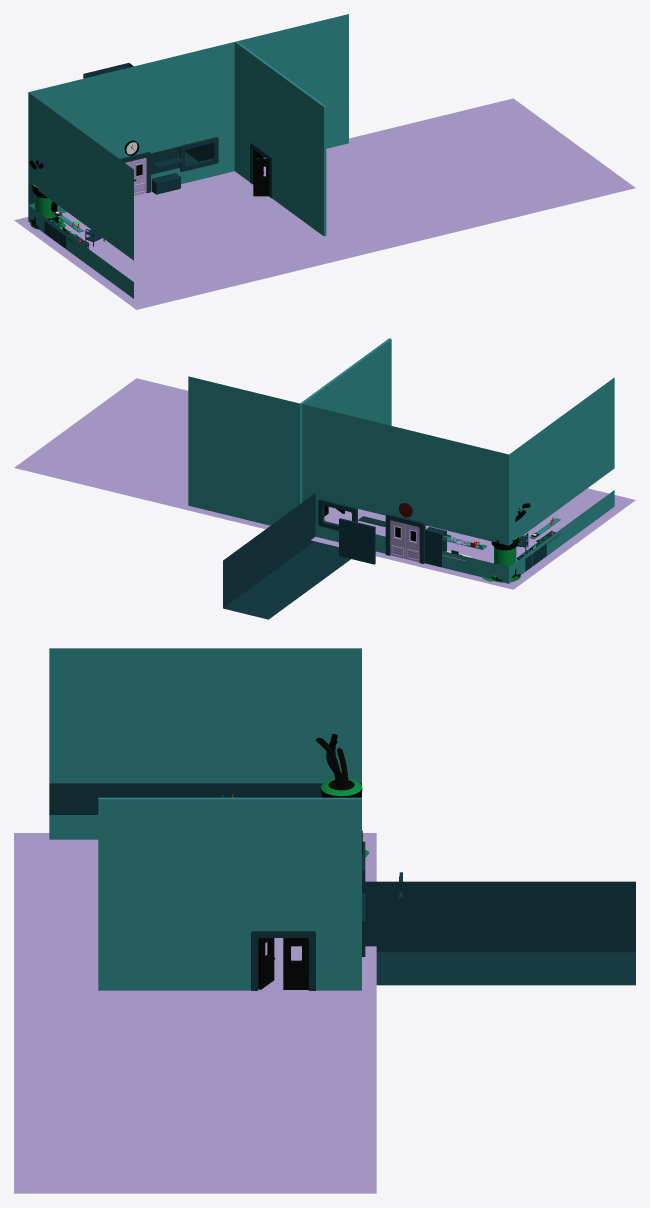
The model's file is OverWorldTestTony3.fbx.
3 views of the same model, one above another, from view 1: azimuth 30°, elevation 25°; view 2: azimuth 150°, elevation 25°; view 3: azimuth 270°, elevation 25° (orthographic). The views are drawn at different scales.
Visible parts, largest first — view 1: Cube.050; view 2: Cube.050; view 3: Cube.050.
Boxes of the visible parts, x1,y1,x2,y2 form: Cube.050: [14, 14, 635, 309]; Cube.050: [14, 338, 635, 619]; Cube.050: [14, 648, 635, 1193].
Size of the model in its own units: 2185 by 558 by 1594.
